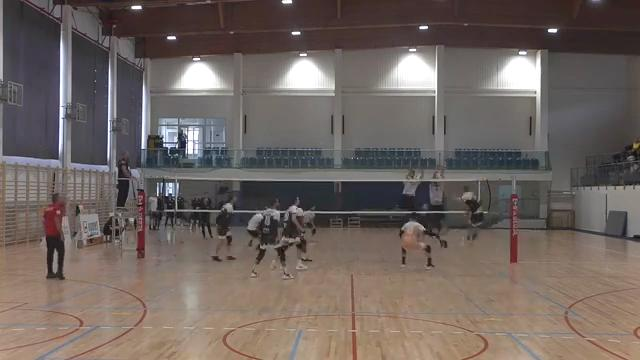Attack: (451, 182, 490, 246)
Block: (426, 161, 450, 251), (392, 162, 422, 227)
Player: (251, 199, 292, 279), (399, 213, 434, 269), (281, 197, 307, 269), (212, 197, 235, 261), (247, 210, 265, 246), (199, 192, 212, 238), (303, 206, 316, 235), (303, 206, 316, 234), (189, 211, 200, 231)
